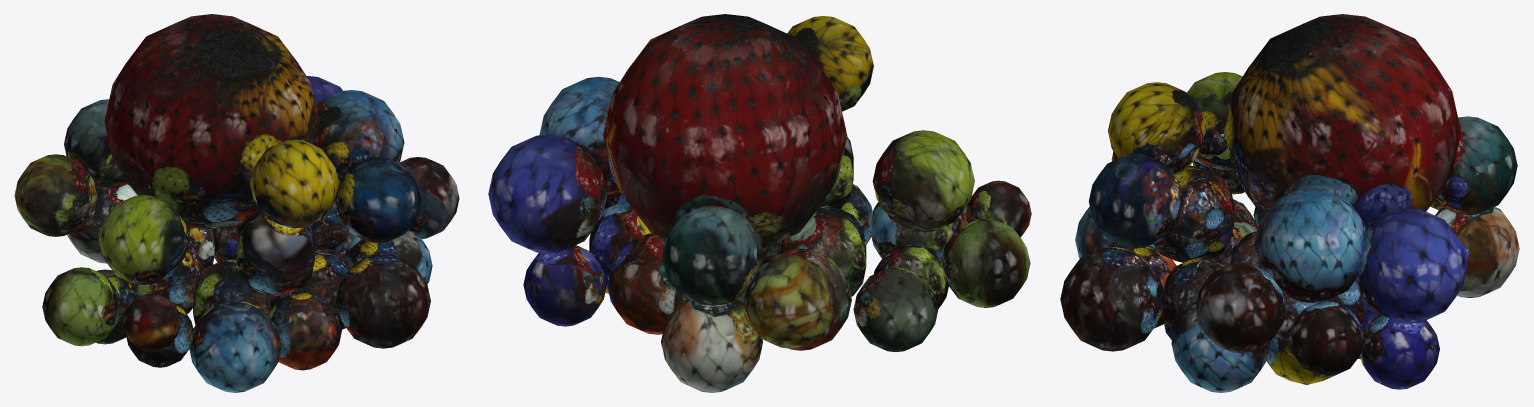
The model's file is 063-a_marbles.dae.
The picture shows the model from 3 angles, left to right: view 1: azimuth 30°, elevation 25°; view 2: azimuth 150°, elevation 25°; view 3: azimuth 270°, elevation 25°; orthographic projection. The views are drawn at different scales.
Visible parts, largest first — view 1: 063-a_marbles; view 2: 063-a_marbles; view 3: 063-a_marbles.
Part boxes in pixels (bbox=[...]): 063-a_marbles: bbox=[14, 14, 459, 392]; 063-a_marbles: bbox=[488, 14, 1031, 392]; 063-a_marbles: bbox=[1060, 14, 1519, 392].
Bounding box in the file's own units: 0.0862 × 0.0761 × 0.0554.
1 material, 1 textured.
